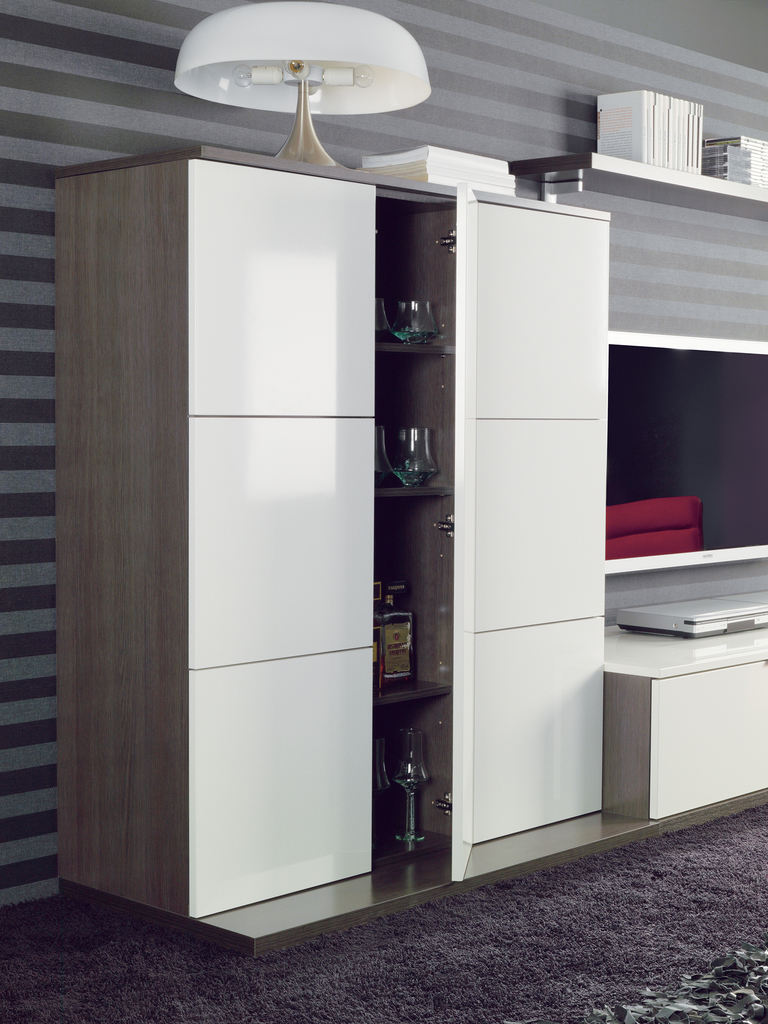cabinet door: (188, 159, 377, 410), (188, 411, 378, 640), (183, 664, 373, 883), (467, 206, 608, 421), (466, 617, 603, 818), (467, 428, 602, 617), (658, 687, 768, 794)
